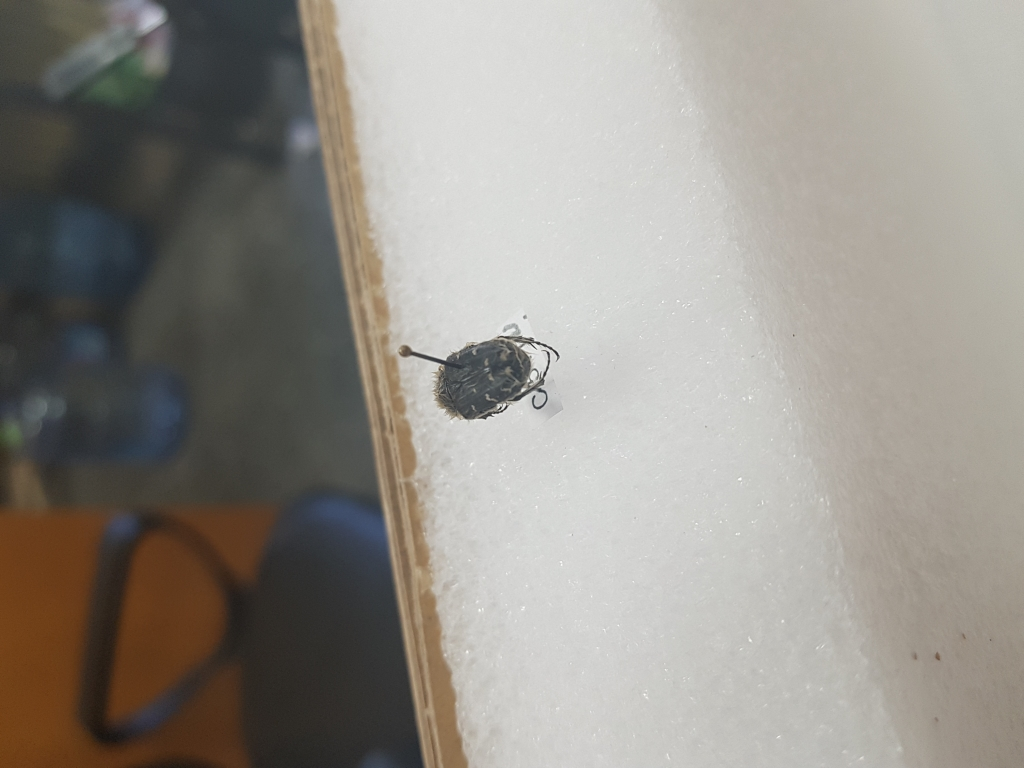Tropinota_senicula: (425, 313, 576, 437)
